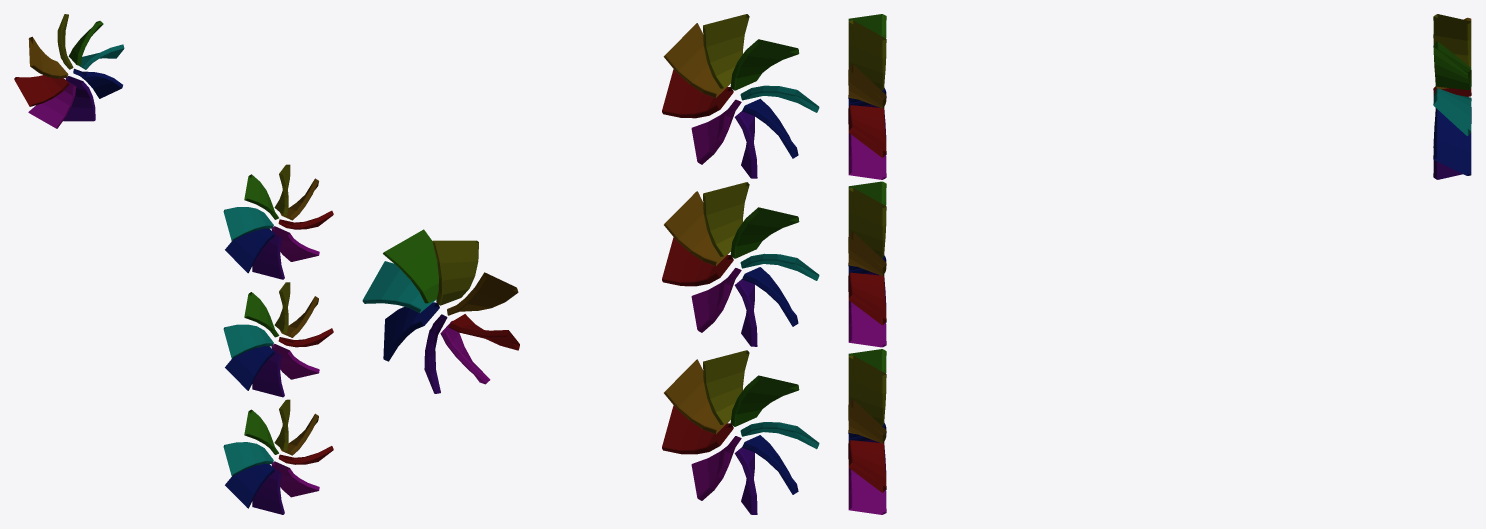
The model's file is PC_Case_Fans_Failed.fbx.
3 views of the same model, side by side, from view 1: azimuth 30°, elevation 25°; view 2: azimuth 150°, elevation 25°; view 3: azimuth 270°, elevation 25° (orthographic). The views are drawn at different scales.
Parts seen in each view (by area): view 1: Fan.004, Fan.002, Fan.003, Fan.001; view 2: Fan.004, Fan.002, Fan.003, Fan.001; view 3: Fan.001, Fan.003, Fan.002, Fan.004.
Boxes of the visible parts, x1,y1,x2,y2 form: Fan.004: (14,14,124,128); Fan.002: (223,282,333,397); Fan.003: (223,399,333,514); Fan.001: (223,164,333,279); Fan.004: (362,229,519,393); Fan.002: (662,182,819,346); Fan.003: (662,350,819,514); Fan.001: (662,14,819,178); Fan.001: (848,14,886,179); Fan.003: (848,349,886,514); Fan.002: (848,181,886,347); Fan.004: (1433,14,1471,179).
Bounding box in the file's own units: 23.98 × 77.31 × 89.9.
